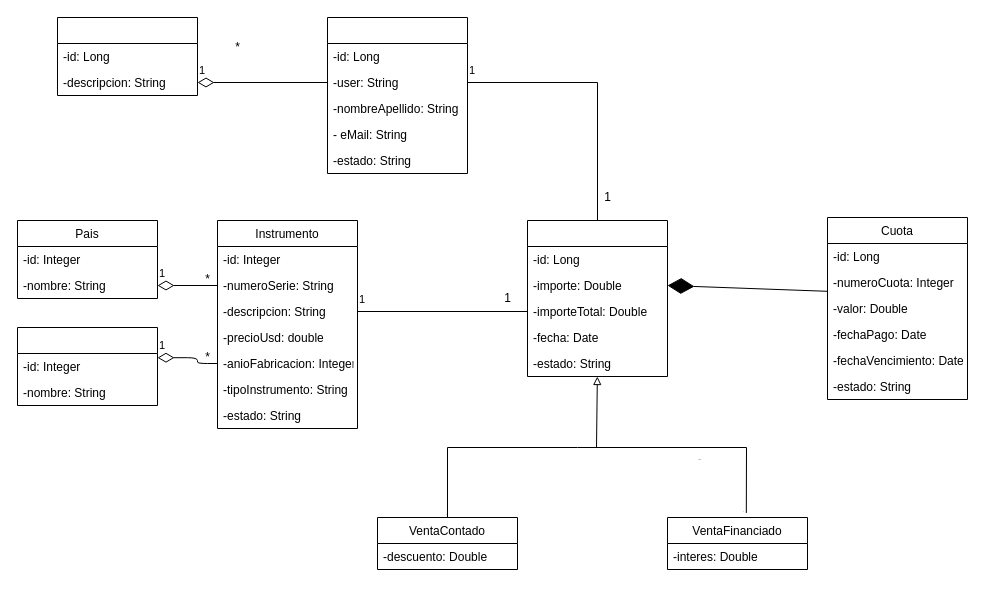
Image size: 985x590. Some labels were removed from this diagram. Each missing label, with the box of its shape:
Rol: (56, 16, 198, 96)
Usuario: (326, 16, 468, 174)
Venta: (526, 220, 668, 376)
